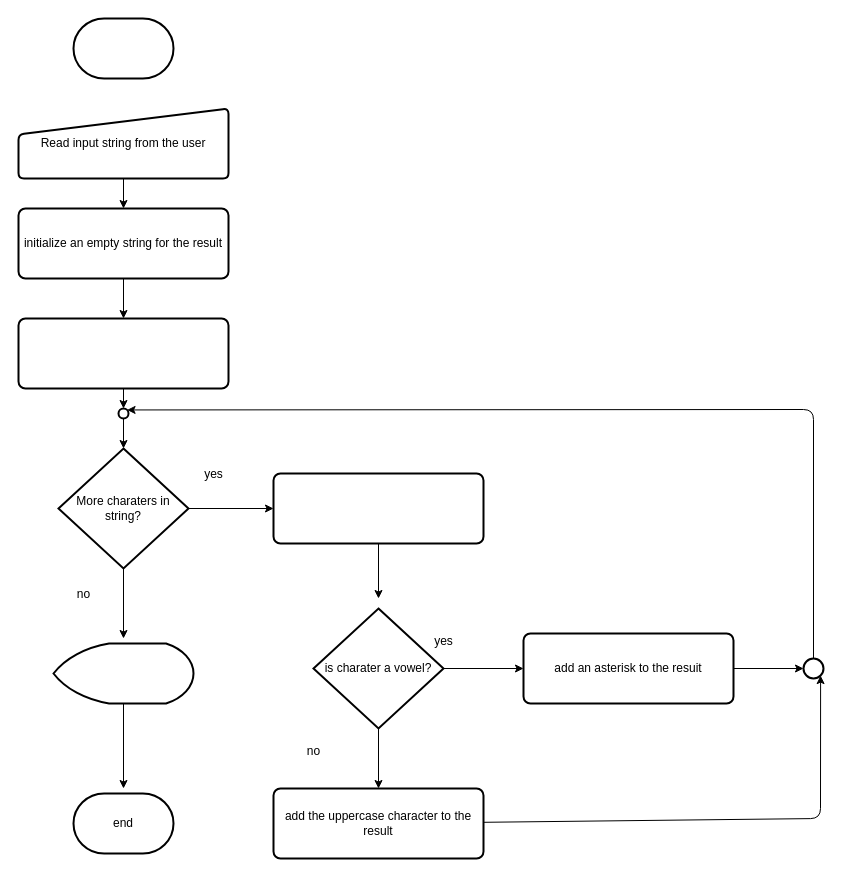
Image size: 846x876. Some labels were removed from this diagram. The shapes that lost their labels are listed below. From the top down, each one's box as (x1, y1, x2, y2) in pixels, then its label:
(72, 17, 174, 79): start
(17, 317, 229, 389): Define vowels as "aeiouAEIOU"
(272, 472, 484, 544): convert character to uppercase
(52, 642, 194, 704): print the modified strinh
